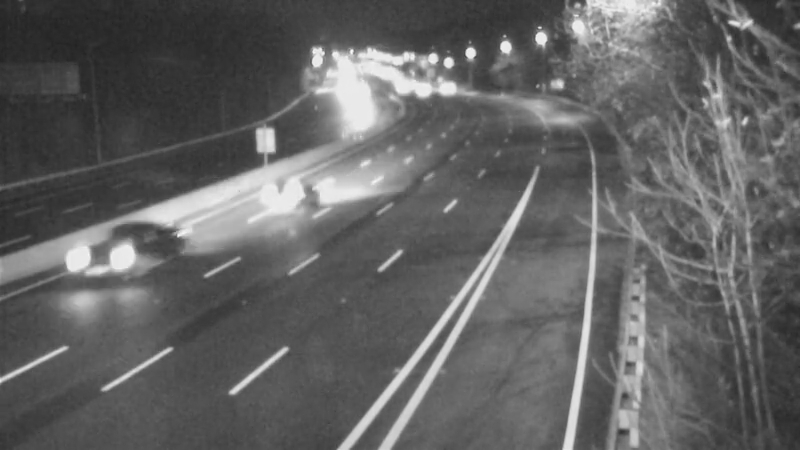vehicle: (246, 160, 326, 240), (63, 213, 143, 293), (394, 64, 444, 114), (417, 60, 467, 110)
